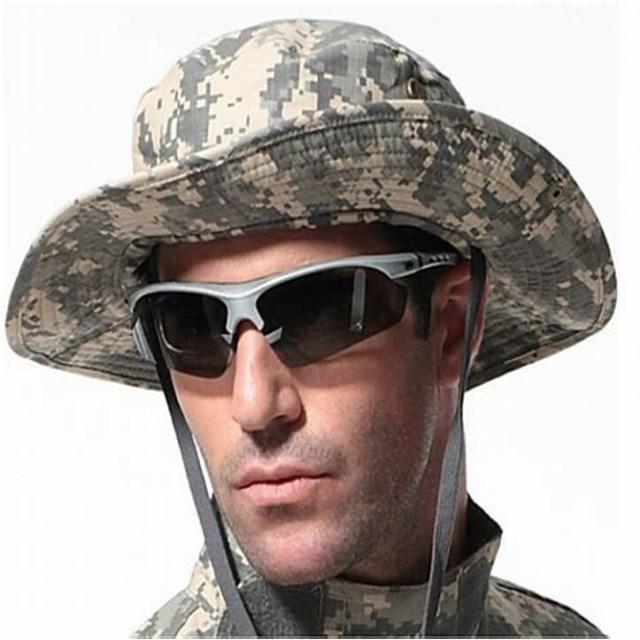illegal_helmet: (0, 13, 623, 601)
